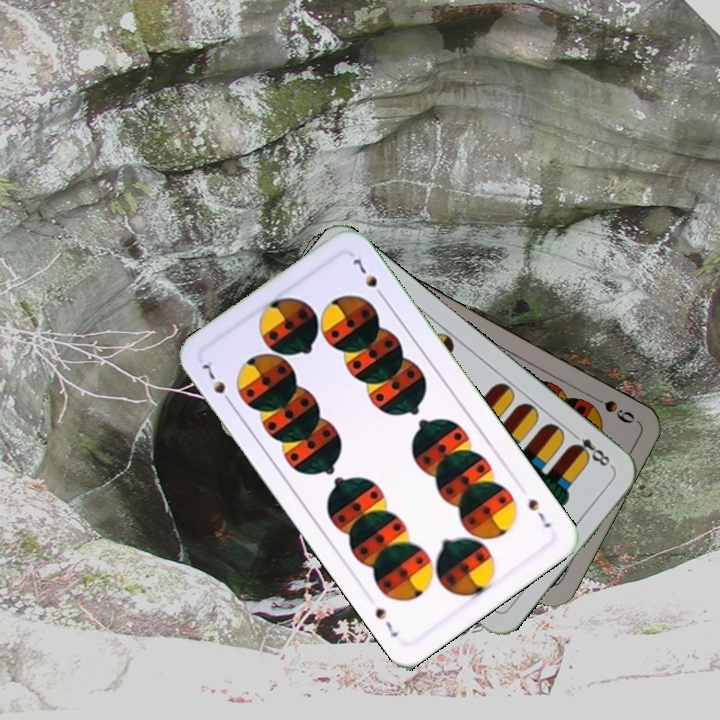E8: (566, 427, 615, 471)
S7: (197, 359, 236, 409), (524, 494, 554, 531)
S9: (584, 390, 638, 426)
